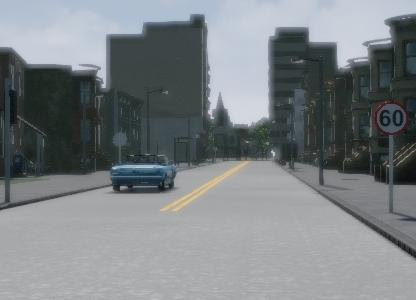Speed_60: (373, 99, 408, 137)
